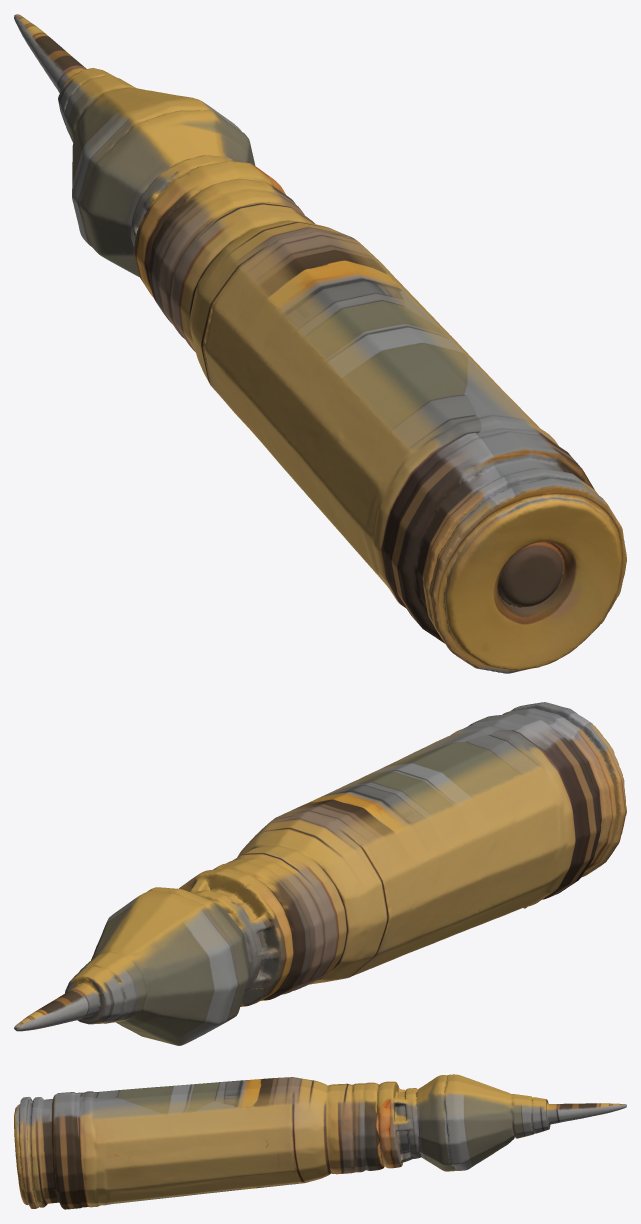
Rendered from tripo_convert_bf65285e-6c42-4f50-97c4-811aae99f70d.fbx.
3 views of the same model, one above another, from view 1: azimuth 30°, elevation 25°; view 2: azimuth 150°, elevation 25°; view 3: azimuth 270°, elevation 25° (orthographic). The views are drawn at different scales.
Parts seen in each view (by area): view 1: tripo_node_bf65285e; view 2: tripo_node_bf65285e; view 3: tripo_node_bf65285e.
Boxes of the visible parts, x1=… form: tripo_node_bf65285e: x1=14, y1=14, x2=626, y2=673; tripo_node_bf65285e: x1=14, y1=702, x2=626, y2=1045; tripo_node_bf65285e: x1=14, y1=1074, x2=626, y2=1209.
Bounding box in the file's own units: 0.2155 × 0.2423 × 1.
Materials: 1 (1 with a texture image).
